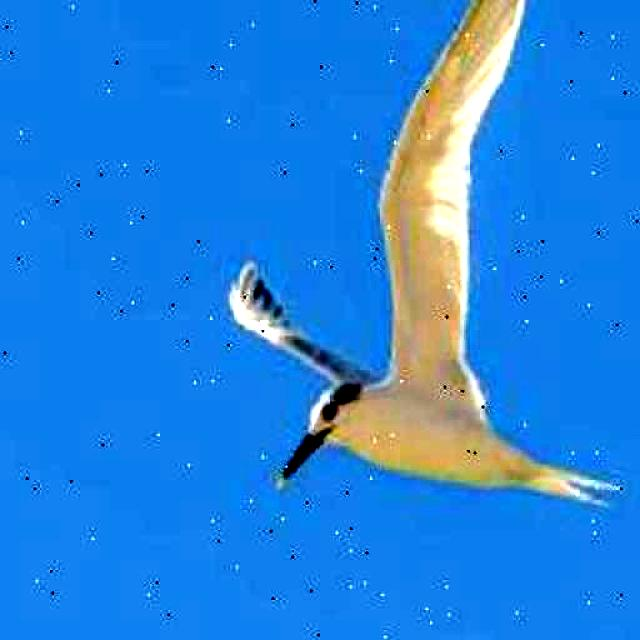airplane: (195, 0, 601, 544)
